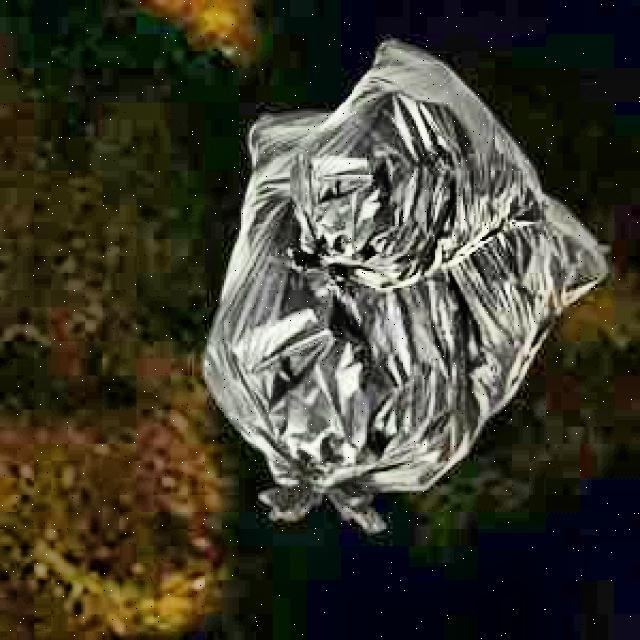Trashbag: (195, 31, 615, 537)
